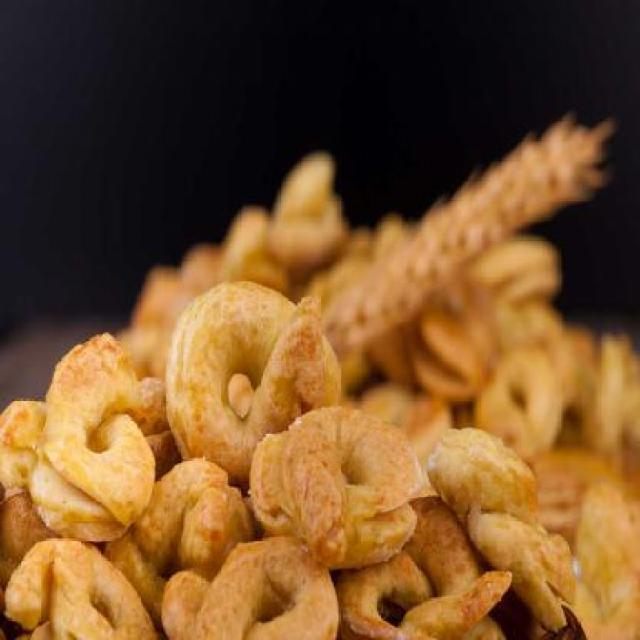Taralli: (4, 278, 582, 640)
